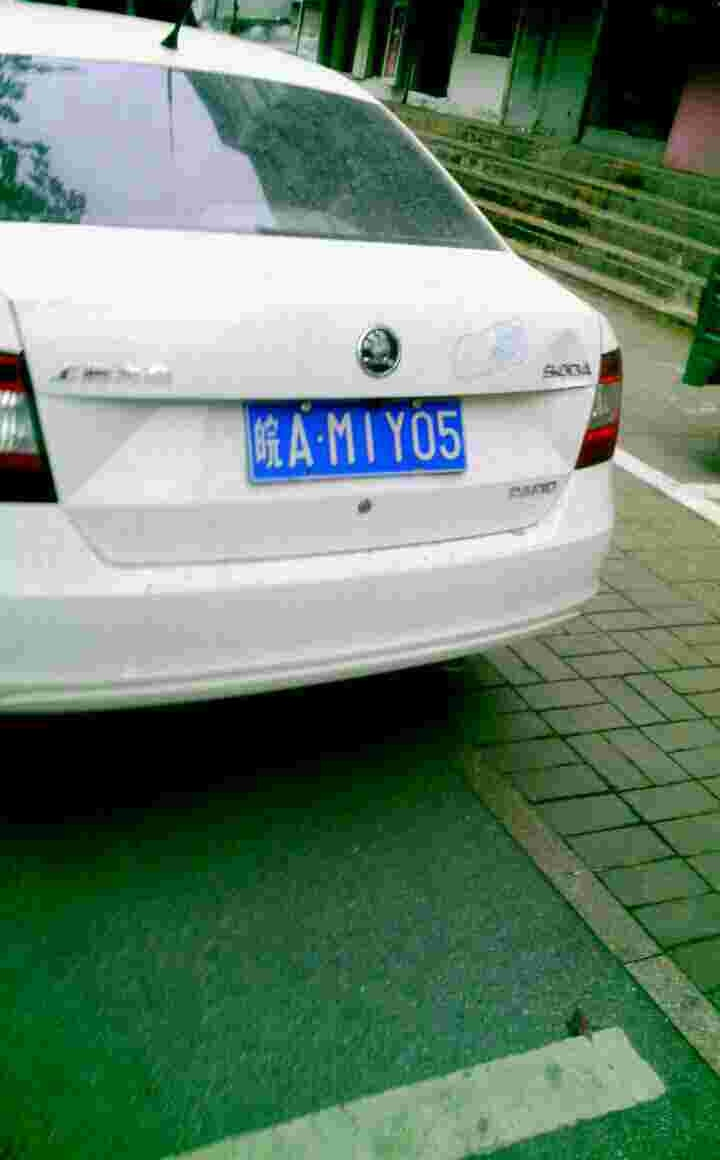license_plate: (239, 399, 467, 472)
